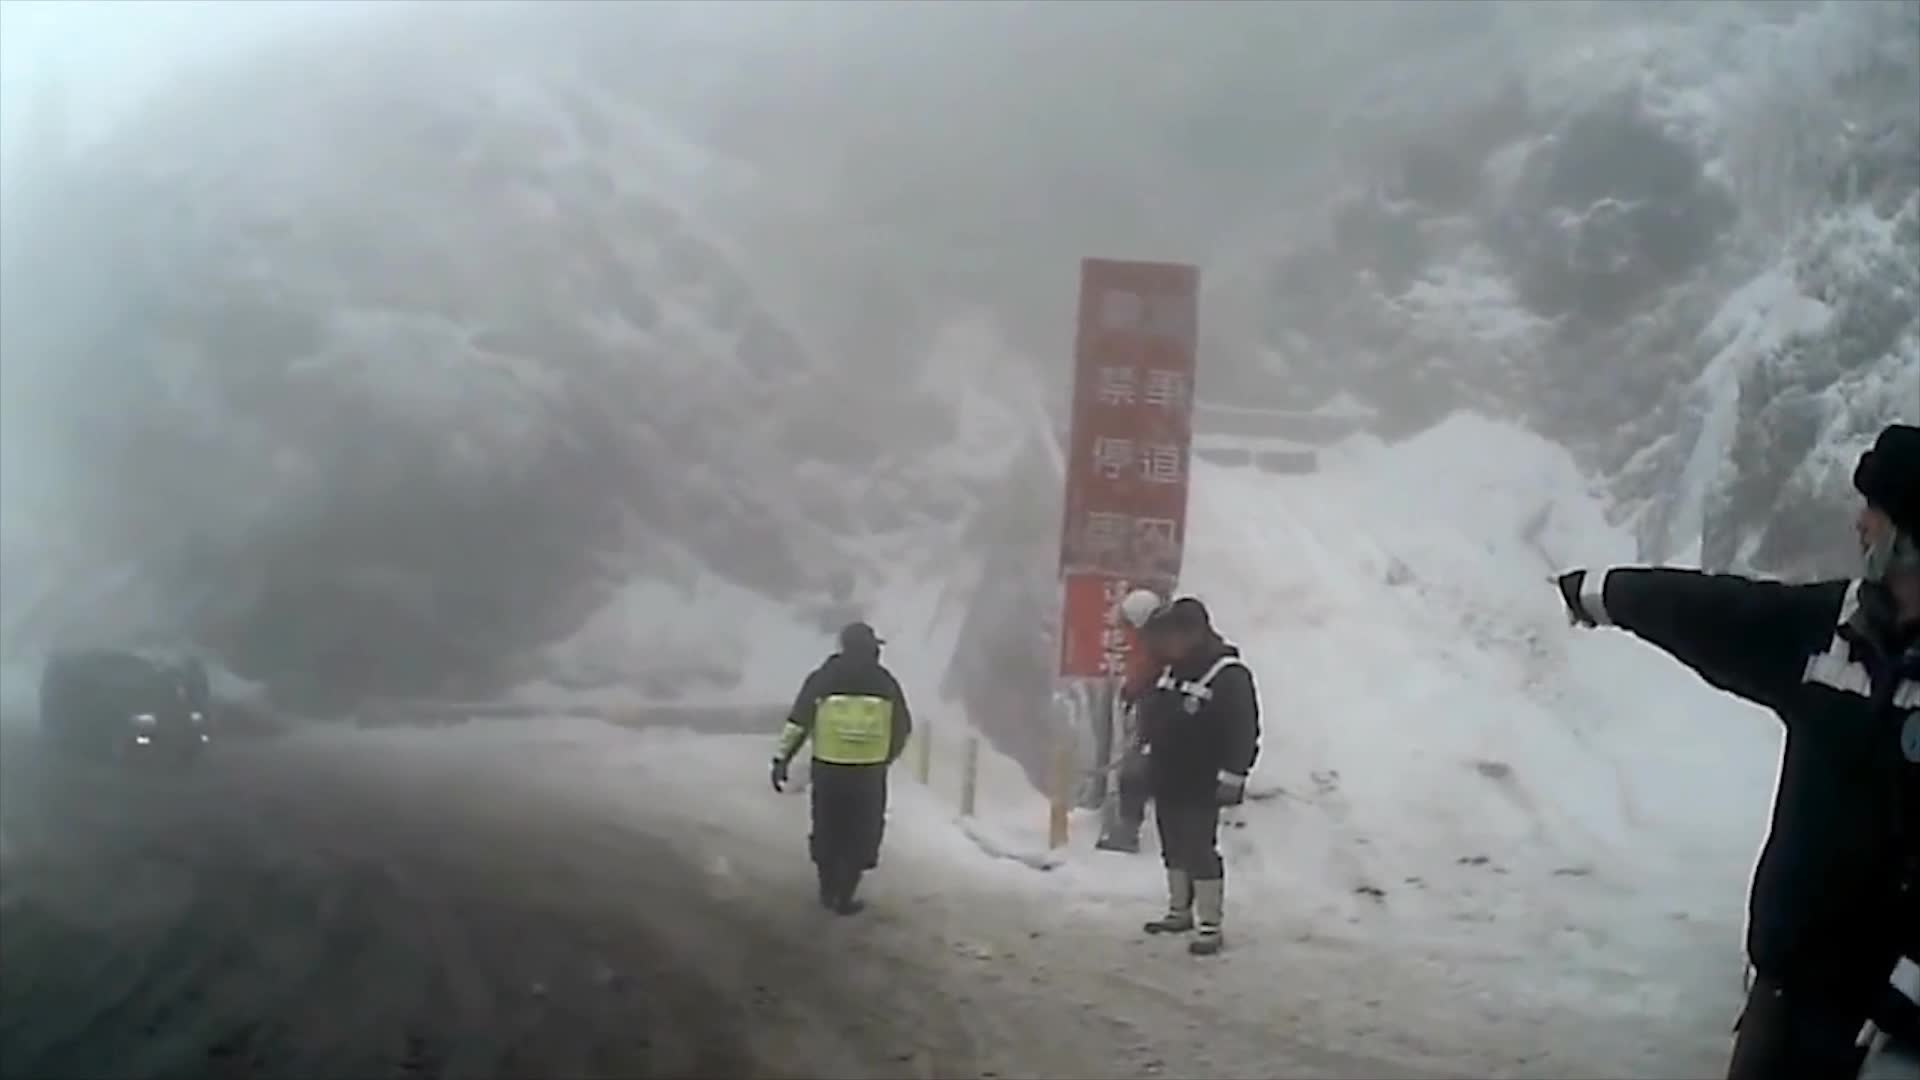pedestrian: (1537, 421, 1920, 1080), (1140, 602, 1264, 958), (767, 631, 912, 917)
vehicle: (39, 644, 209, 768)
